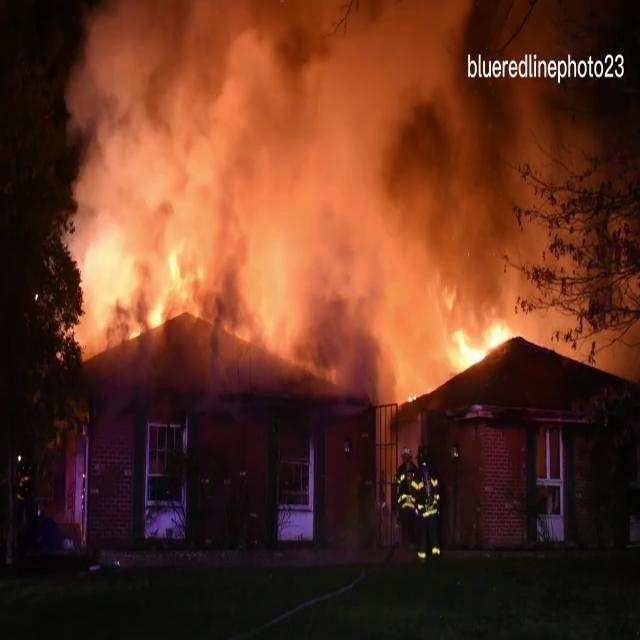Smoke: (38, 0, 638, 346)
